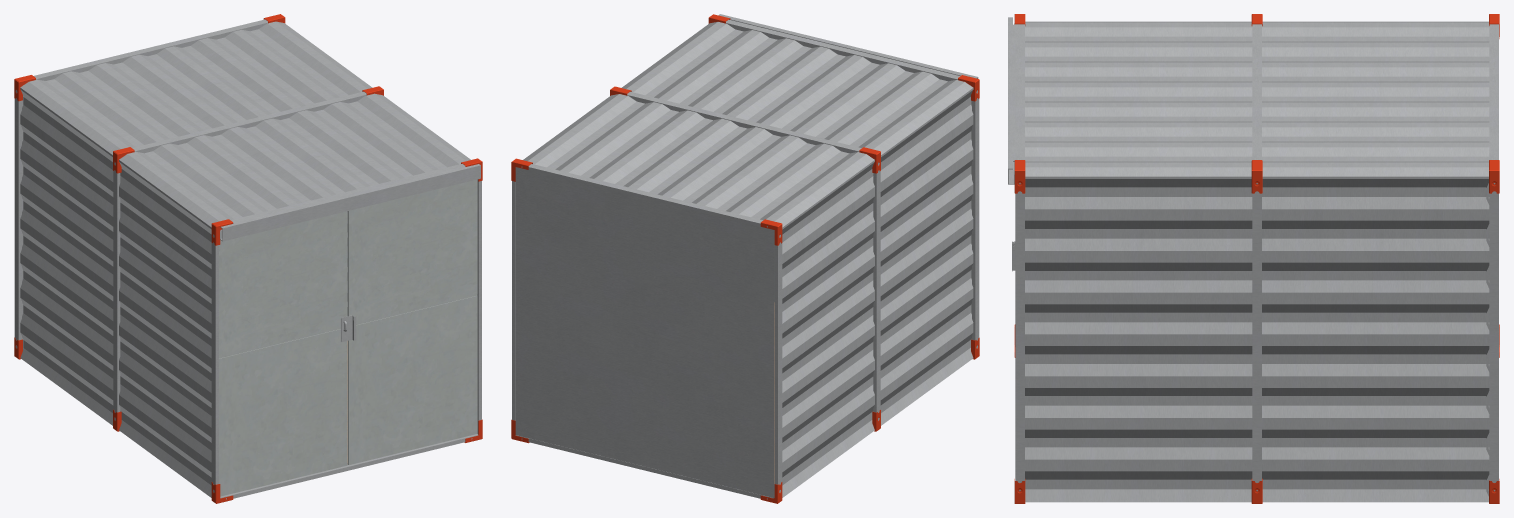
The model's file is 6M_closed.glb.
3 views of the same model, side by side, from view 1: azimuth 30°, elevation 25°; view 2: azimuth 150°, elevation 25°; view 3: azimuth 270°, elevation 25° (orthographic). The views are drawn at different scales.
Parts seen in each view (by area): view 1: leftWall, ceiling.001, rightSideDoorWing, leftSideDoorWing, rimFront.001, gutter, corners.001; view 2: Plane, leftWall, ceiling.001, rimFront.001, corners.001, gutter; view 3: rightWall.001, ceiling.001, rimFront.001, corners.001, gutter.
Boxes of the visible parts, x1,y1,x2,y2 form: leftWall: (20,90,211,497); ceiling.001: (20,21,470,229); rightSideDoorWing: (348,179,477,464); leftSideDoorWing: (219,211,347,496); rimFront.001: (14,19,481,499); gutter: (220,164,480,241); corners.001: (14,14,482,503); Plane: (515,167,774,497); leftWall: (782,90,973,497); ceiling.001: (523,22,973,229); rimFront.001: (512,19,979,499); corners.001: (511,14,979,503); gutter: (718,14,978,78); rightWall.001: (1025,178,1489,502); ceiling.001: (1025,21,1489,178); rimFront.001: (1015,24,1498,491); corners.001: (1014,14,1499,503); gutter: (1008,17,1015,184).
Bounding box in the file's own units: 23.11 × 22.98 × 30.66.
13 materials, 9 textured.
